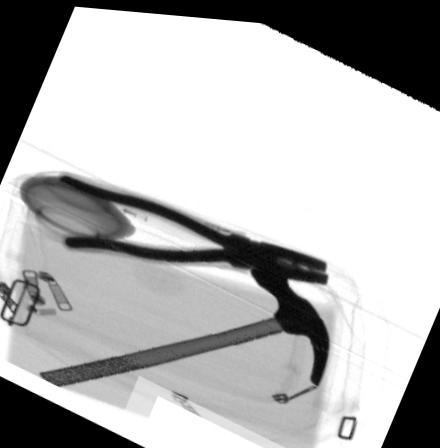Hammer: (38, 253, 331, 388)
Pliers: (53, 169, 327, 279)
